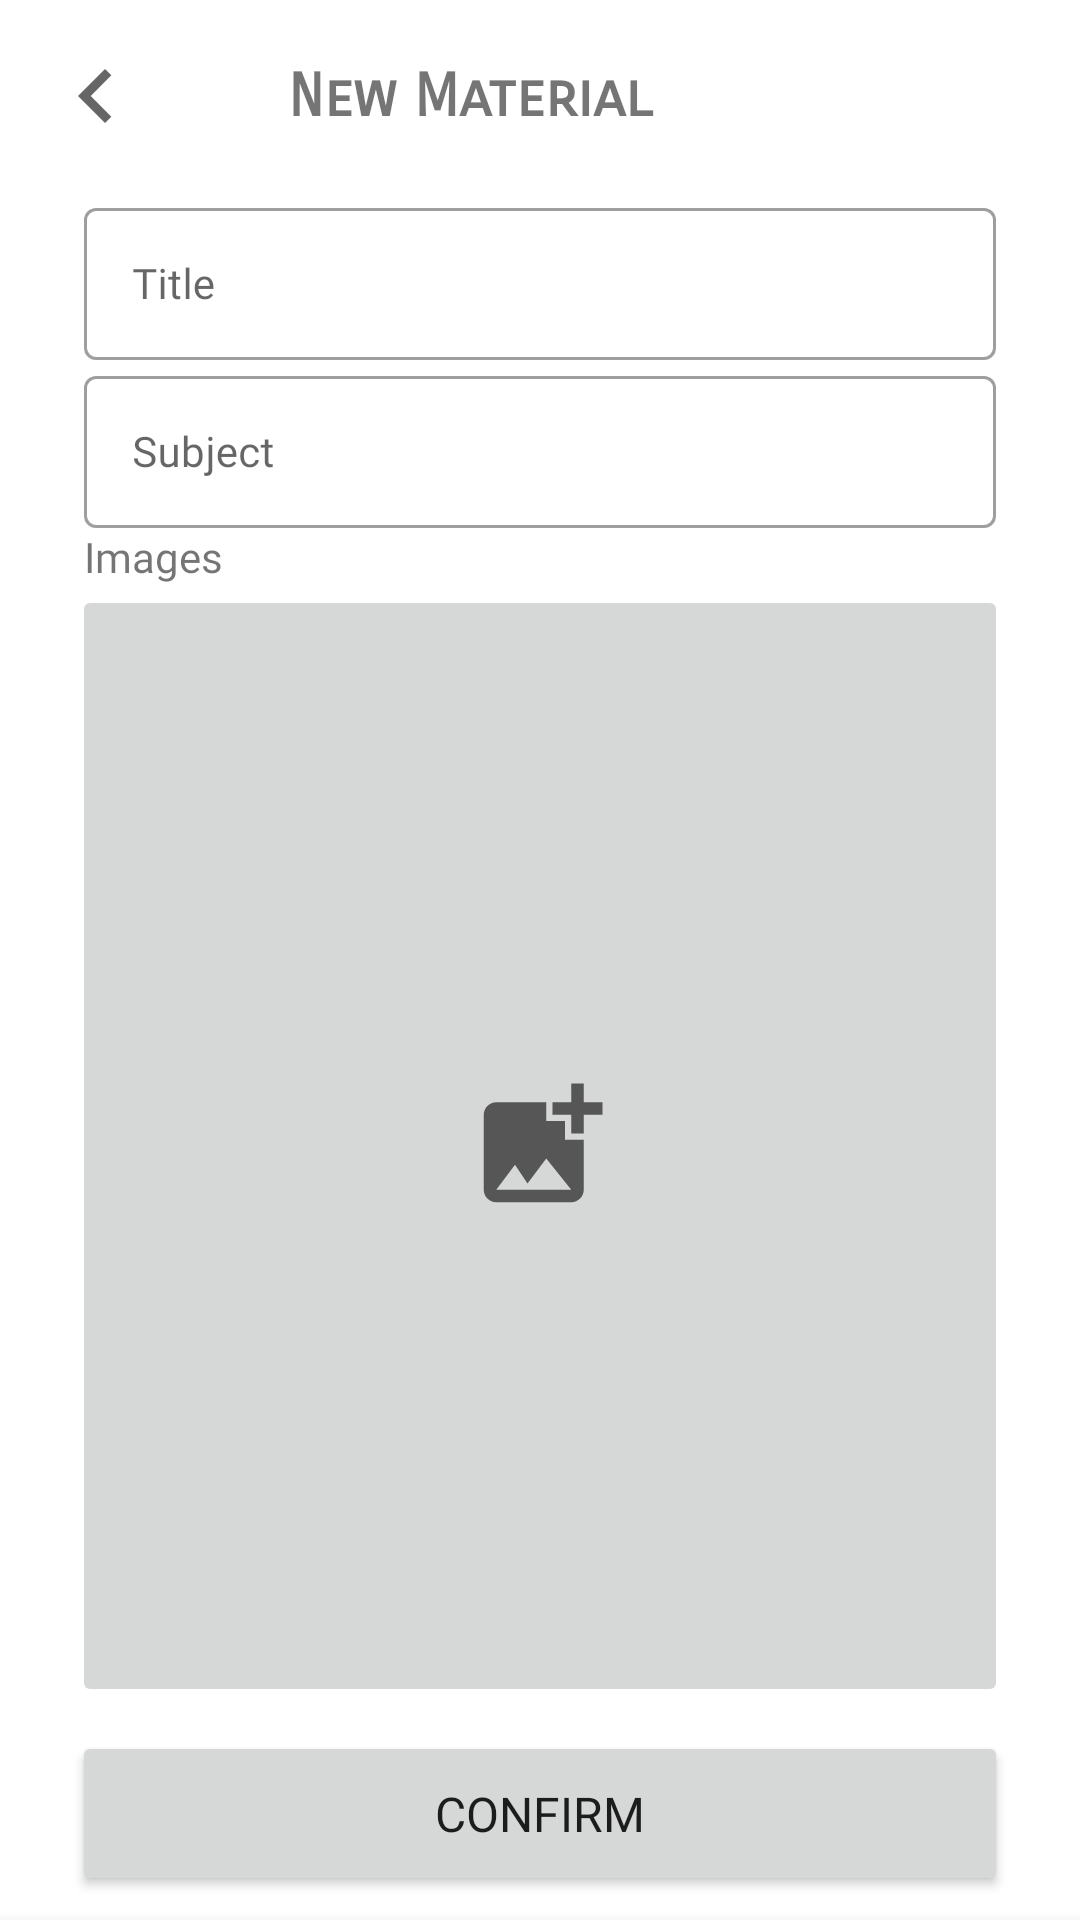

Icons on this 1080*1920 Android screen, each with the point to tap as (x=x, y=y):
navigate back: (x=94, y=96)
